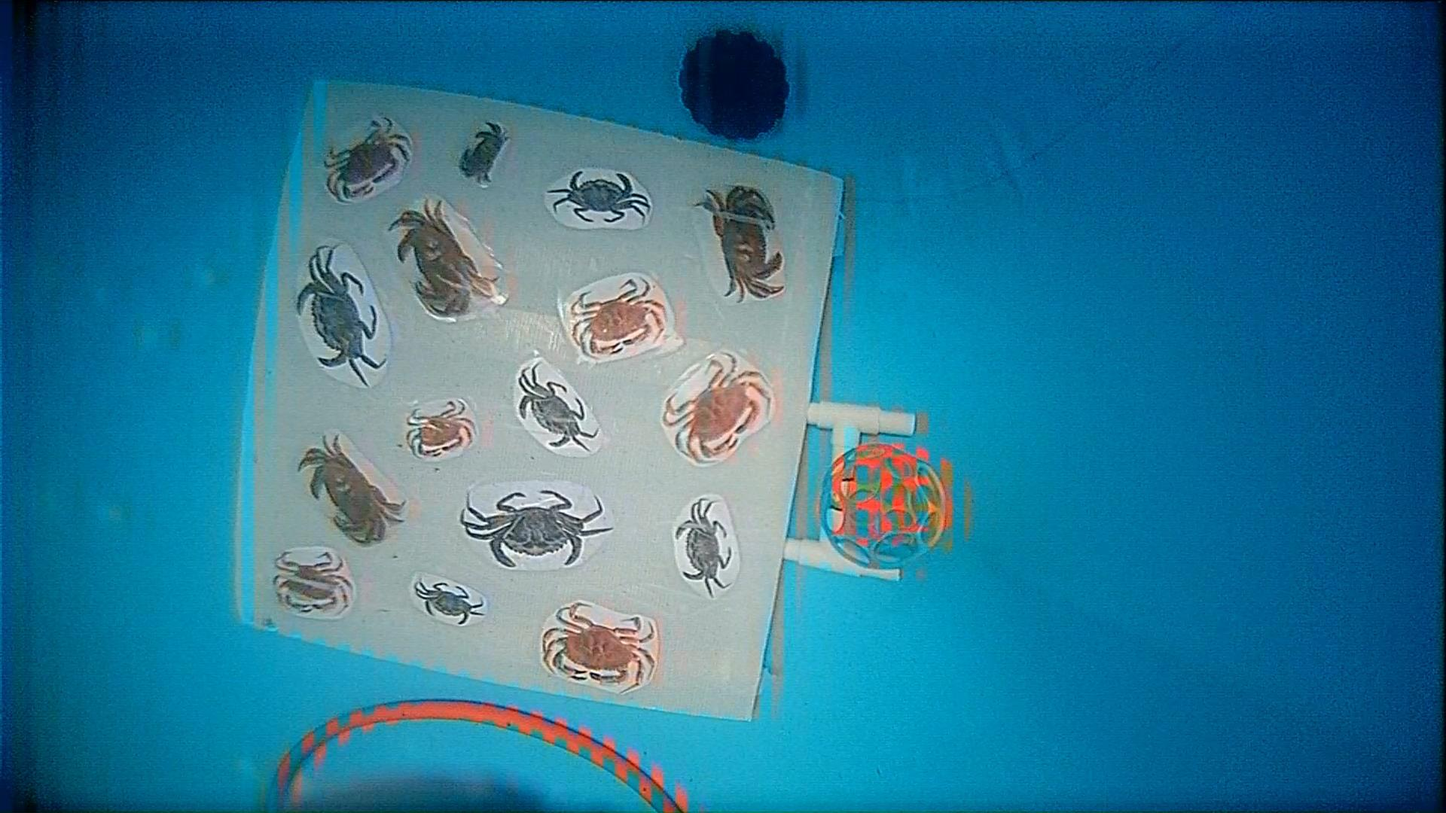GreenCrab: (297, 245, 382, 385), (462, 489, 611, 567), (518, 362, 596, 449), (675, 498, 732, 598), (548, 170, 650, 222), (414, 582, 484, 625)
